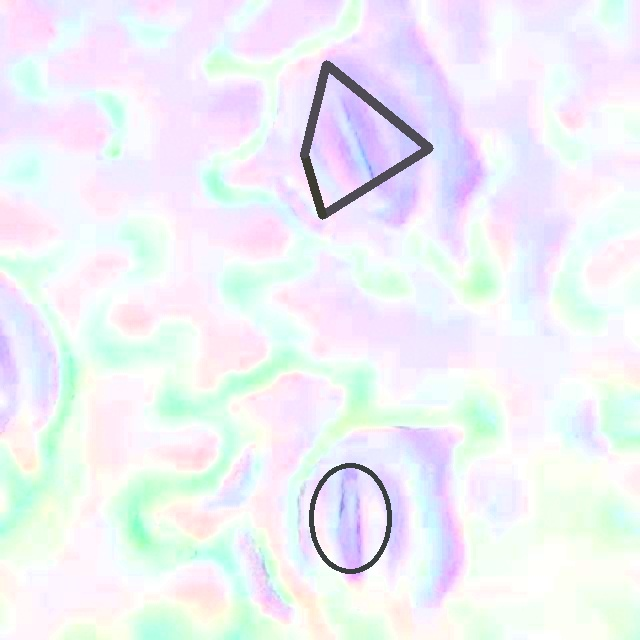open: (300, 60, 433, 219), (309, 463, 391, 572)
